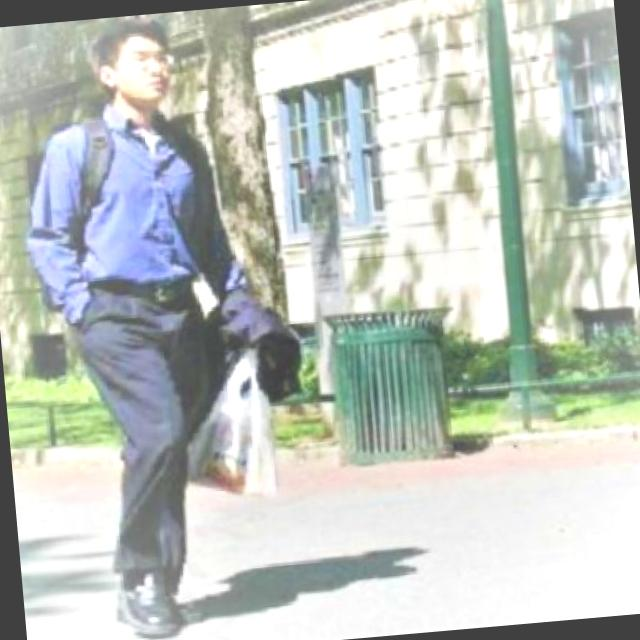Person: (3, 10, 254, 640)
